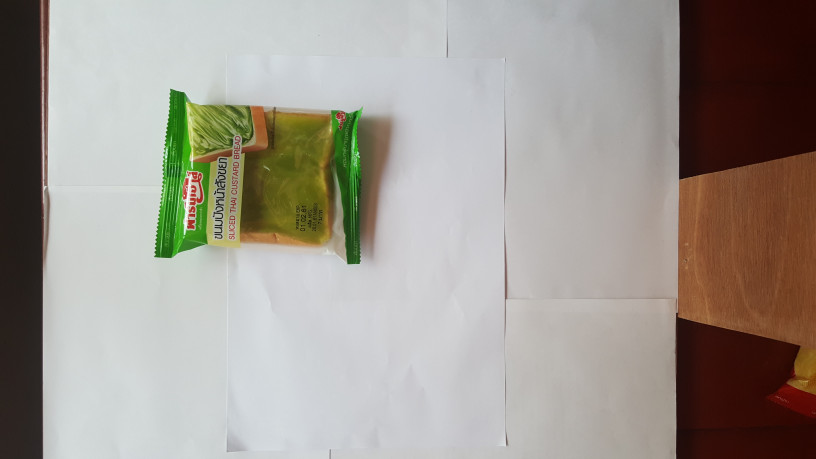farmhouse-bread-pandan: (152, 86, 367, 268)
